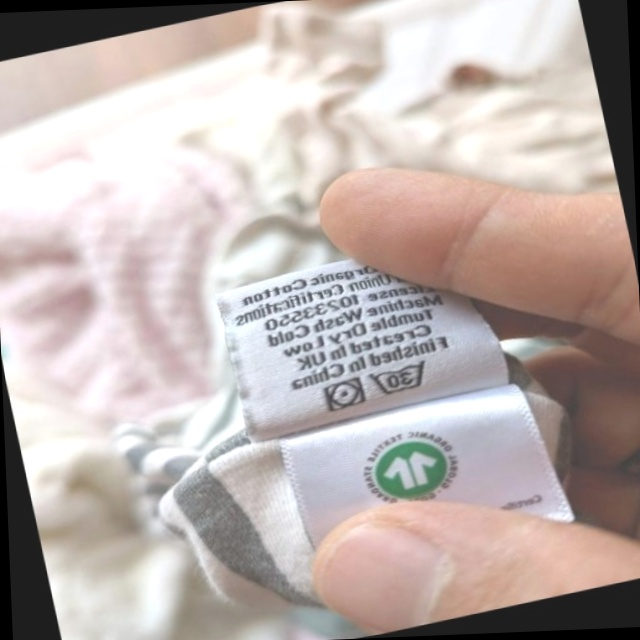30C: (364, 354, 437, 402)
tumble_dry_low: (319, 373, 370, 417)
